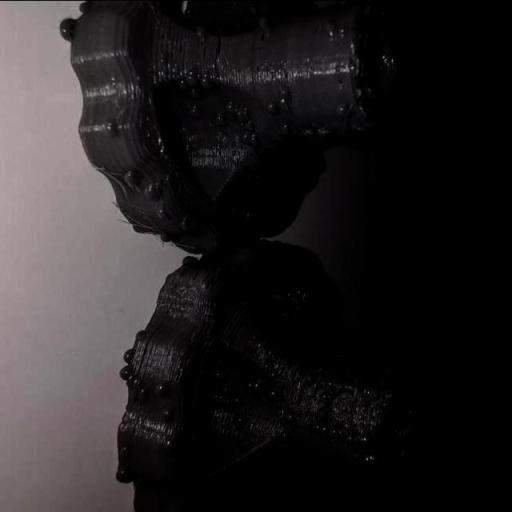blobs: (191, 20, 215, 44), (117, 168, 140, 190), (60, 14, 78, 42), (254, 12, 276, 34), (244, 377, 266, 396), (103, 119, 122, 140), (198, 74, 220, 92), (262, 95, 280, 116), (275, 119, 293, 138), (356, 431, 374, 450), (336, 103, 354, 121), (274, 428, 292, 446), (186, 101, 203, 120), (313, 124, 331, 141), (174, 77, 193, 93), (232, 410, 248, 428), (118, 364, 134, 382), (246, 132, 260, 152), (263, 386, 279, 403), (225, 98, 239, 117), (240, 119, 256, 135), (152, 380, 168, 396), (159, 403, 172, 422), (276, 93, 291, 109), (116, 465, 130, 482), (136, 387, 150, 402), (318, 422, 331, 438), (230, 393, 243, 409), (134, 476, 148, 490), (341, 434, 357, 446), (123, 348, 135, 364), (383, 361, 394, 378), (328, 428, 342, 441), (129, 376, 140, 391)
